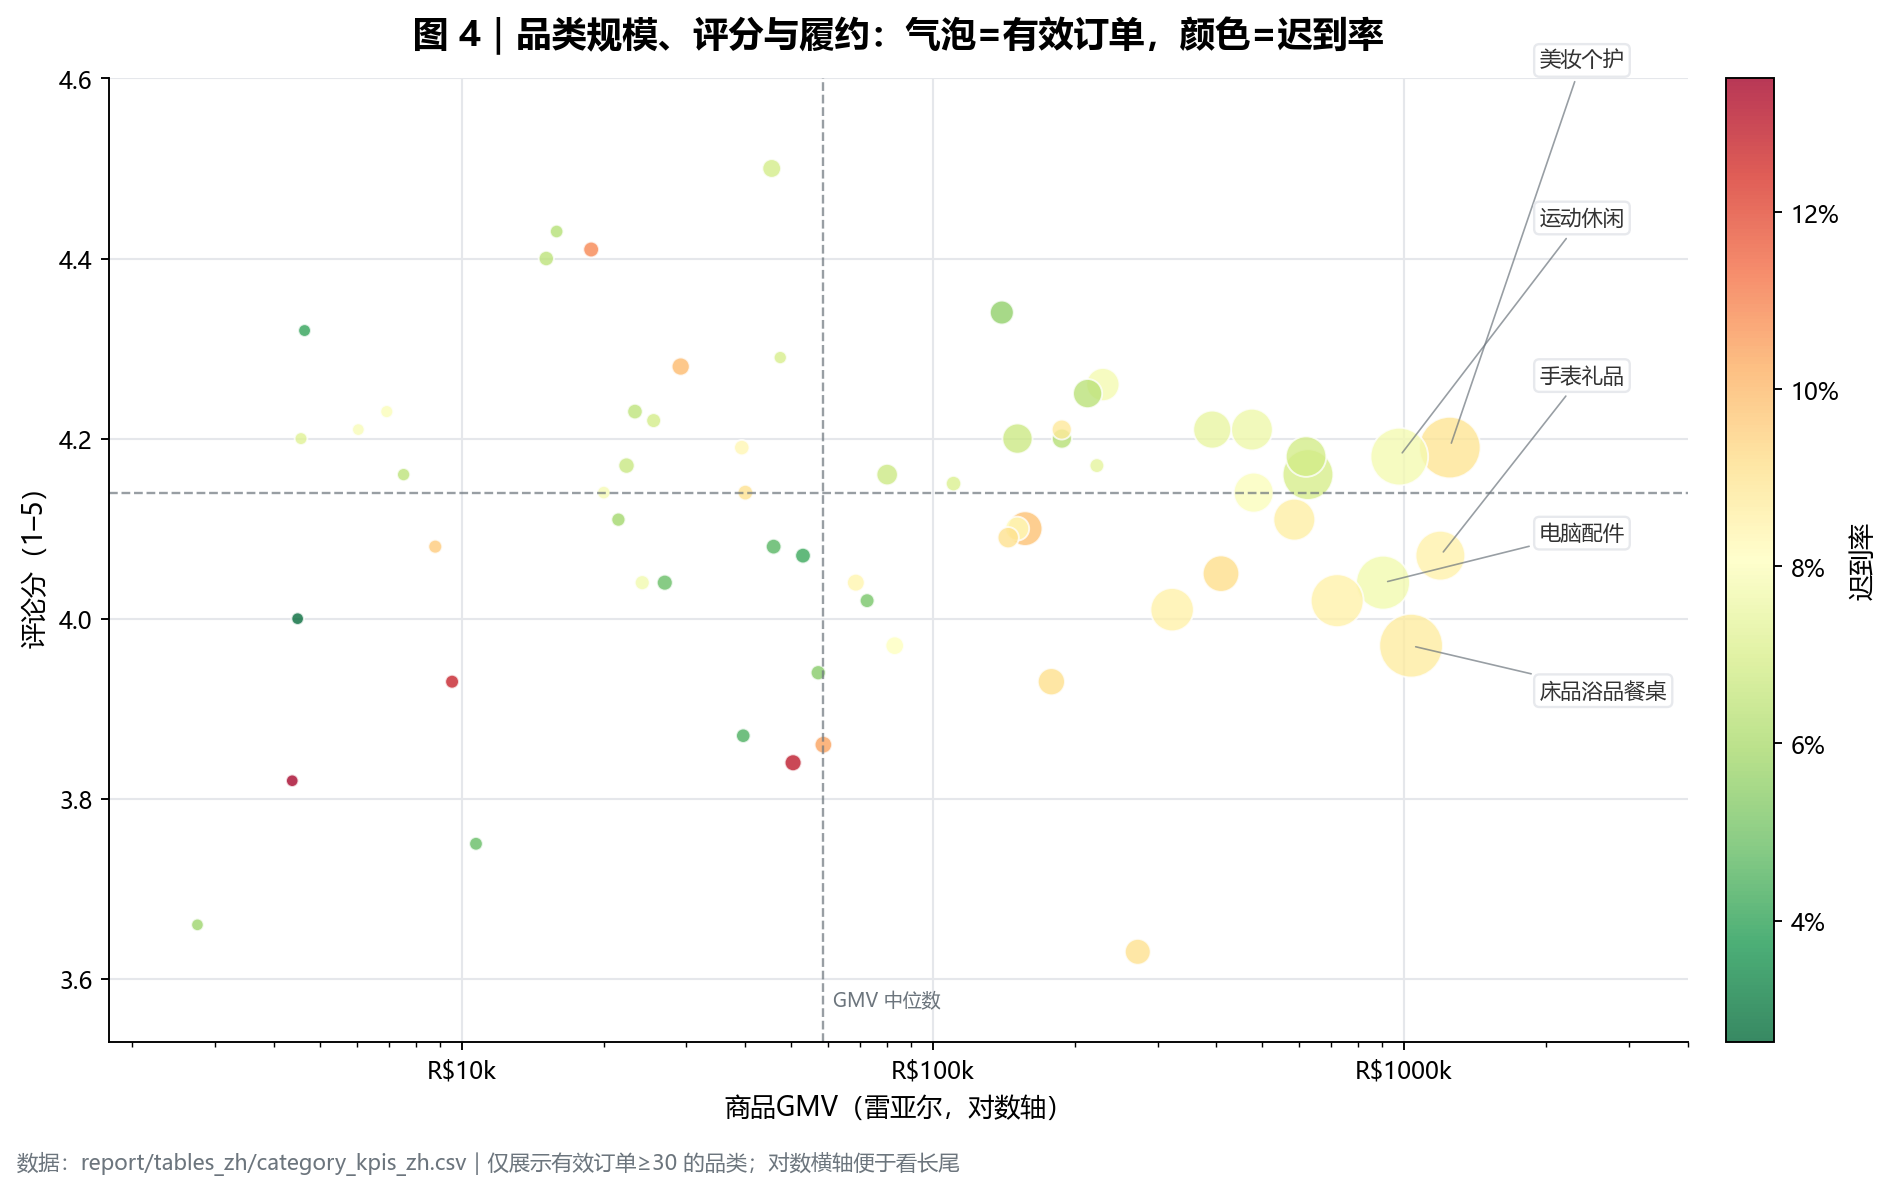

Layout of this report page (visuals, bound fields, positions):
{"tool":"powerbi","page":{"name":"04 品类规模与体验","canvas":[1920,1080],"ordinal":3},"visuals":[{"type":"scatterChart","title":"品类规模、评分与履约：气泡=订单量，颜色=迟到率","fields":{"Category":["category_kpis_zh.品类"],"Series":["category_kpis_zh.迟到率分组"],"Size":["Sum(category_kpis_zh.有效订单数)"],"X":["Sum(category_kpis_zh.商品GMV)"],"Y":["Avg(category_kpis_zh.评论分)"]},"box":[136.4,20,1144,798.2],"z":0}]}

Visuals, with their boxes on the page's 1920x1080 design canvas (x1, y1, x2, y2). These are canvas units, not pixel positions in the 1894x1192 screenshot, which may show the page scaled, cropped or inside an application window:
"品类规模、评分与履约：气泡=订单量，颜色=迟到率" scatterChart: 136 20 1280 818
